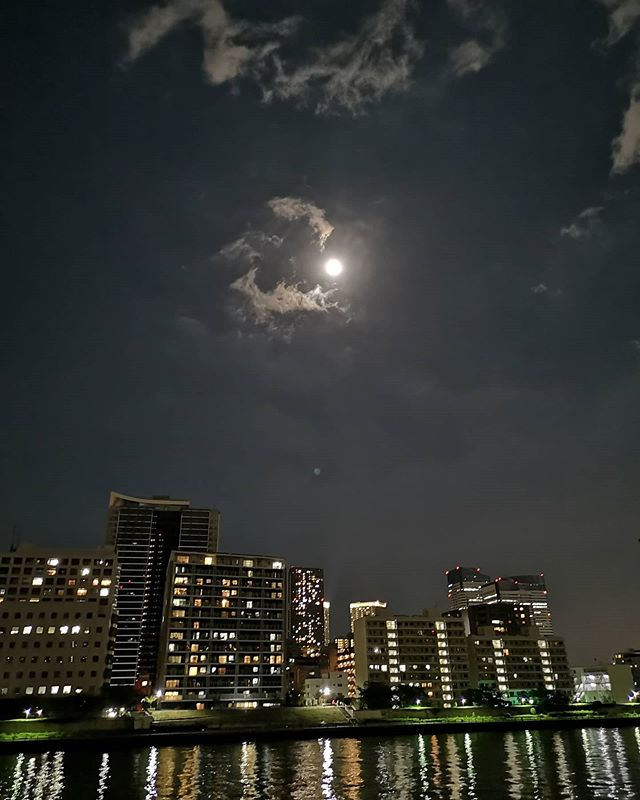building: (148, 552, 296, 698), (1, 539, 126, 704), (111, 493, 214, 678), (459, 566, 578, 708), (356, 610, 472, 705), (294, 558, 329, 664)
river: (6, 724, 640, 800)
sky: (17, 1, 629, 565)
